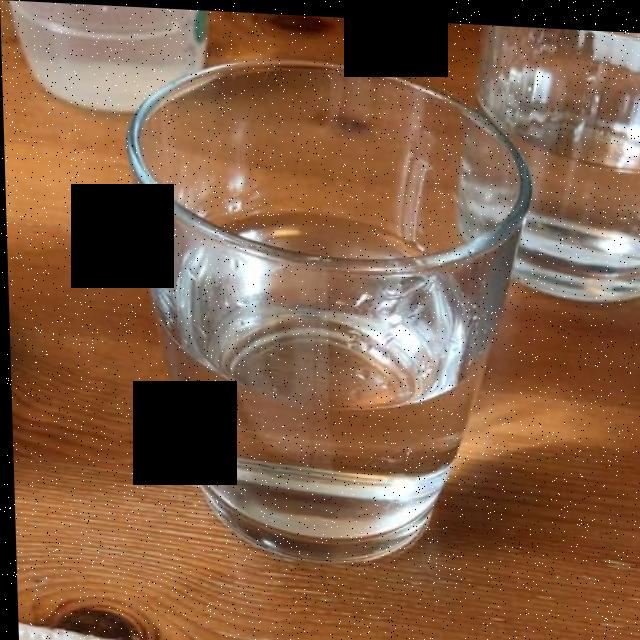water: (143, 210, 492, 547)
